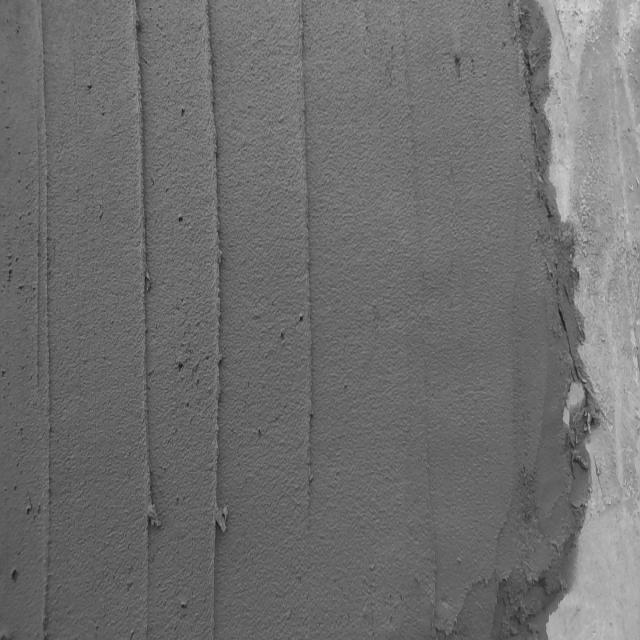trowels marks: (27, 0, 57, 630), (199, 14, 228, 636), (131, 0, 159, 619), (298, 19, 320, 522)
